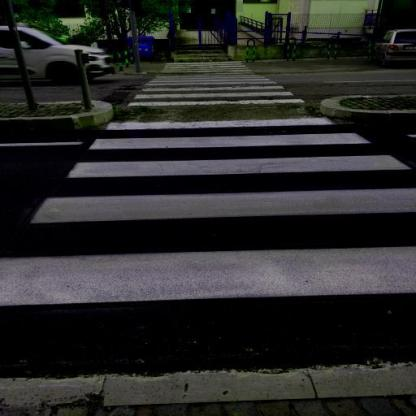crosswalk: (55, 128, 415, 186)
